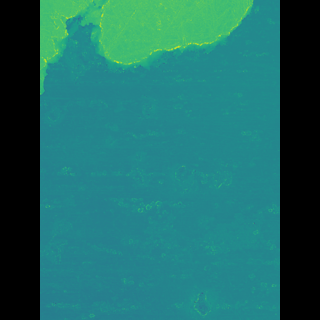Loch: (71, 0, 235, 76)
